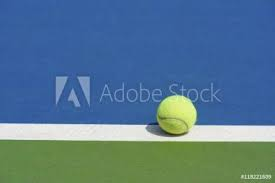tennis_ball: (157, 95, 198, 136)
